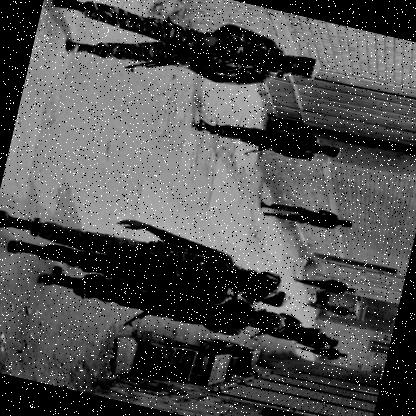rifle: (74, 240, 203, 326), (125, 16, 235, 93), (244, 124, 300, 166), (124, 292, 175, 335), (290, 208, 331, 232), (245, 323, 277, 347)
